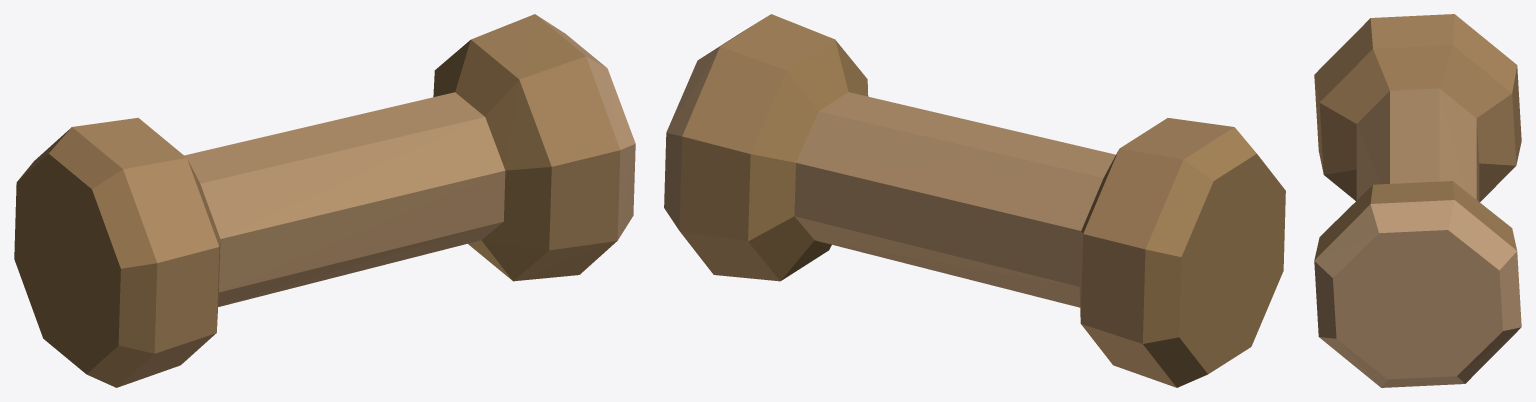
File: ruinenstadt_26.glb
3 views of the same model, side by side, from view 1: azimuth 30°, elevation 25°; view 2: azimuth 150°, elevation 25°; view 3: azimuth 270°, elevation 25° (orthographic). The views are drawn at different scales.
Parts seen in each view (by area): view 1: ruinenstadt_26; view 2: ruinenstadt_26; view 3: ruinenstadt_26.
Part boxes in pixels (box(x1,y1,x2,y2)): ruinenstadt_26: box(14, 14, 635, 387); ruinenstadt_26: box(664, 14, 1285, 387); ruinenstadt_26: box(1314, 14, 1521, 387).
Bounding box in the file's own units: 2 × 0.8452 × 0.8452.
